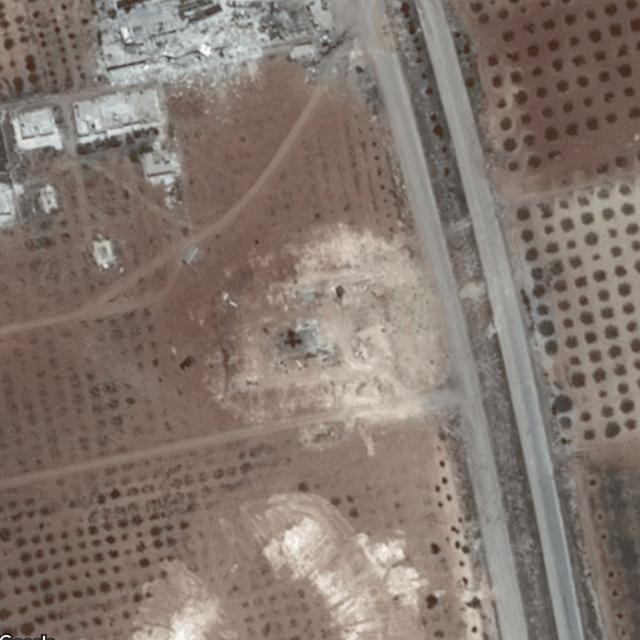damaged_building: (96, 0, 338, 82), (264, 319, 336, 361)
